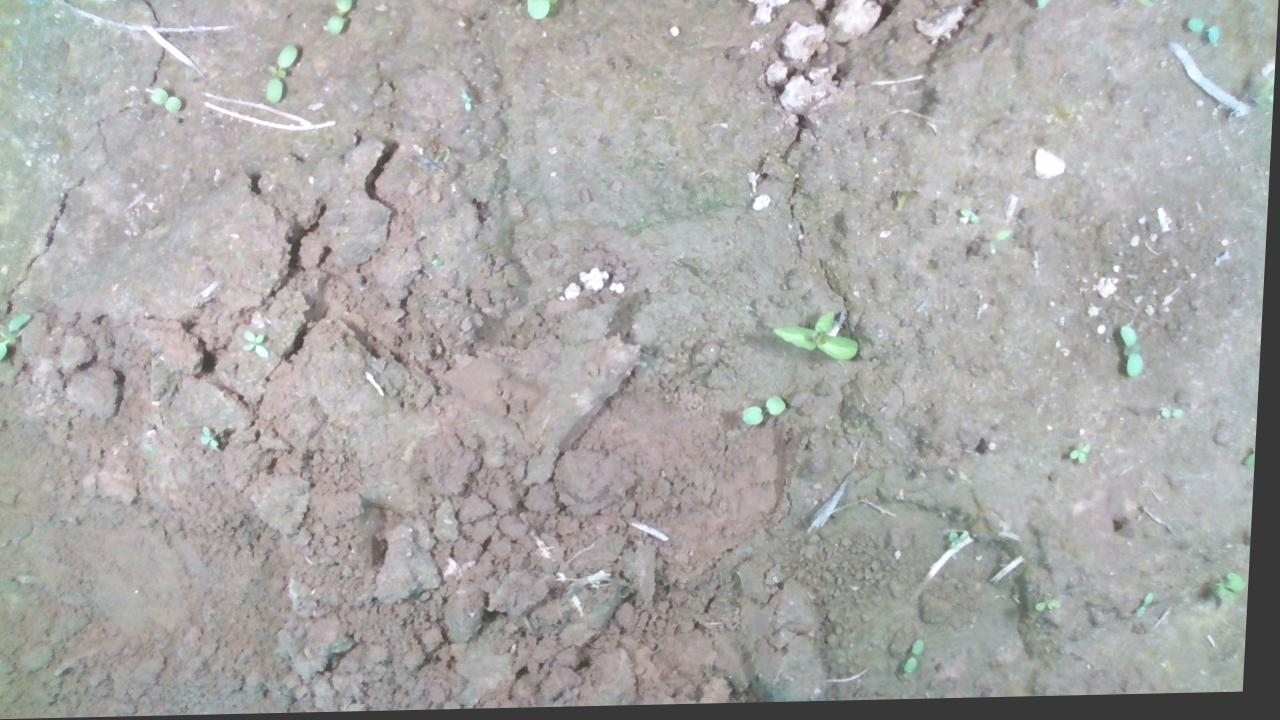weed: (773, 311, 865, 364), (264, 43, 299, 104), (1120, 327, 1150, 383), (744, 397, 791, 429), (320, 0, 353, 38), (1185, 19, 1223, 51), (148, 86, 184, 115), (243, 329, 273, 359), (910, 641, 932, 678), (201, 425, 225, 455), (1072, 444, 1096, 471), (1140, 594, 1162, 623), (1039, 600, 1069, 616), (1162, 411, 1190, 425)
